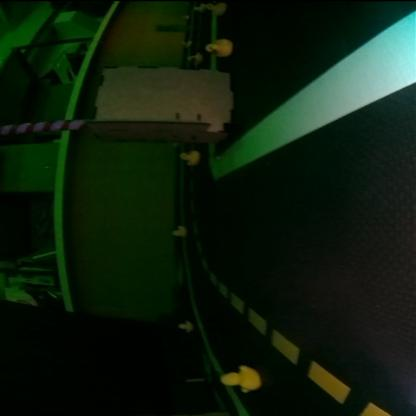Duckie: (221, 367, 257, 391), (204, 38, 233, 58), (207, 2, 226, 16), (180, 152, 198, 166), (187, 53, 203, 65), (178, 322, 192, 333), (172, 226, 184, 236), (195, 4, 205, 11), (184, 42, 192, 46), (182, 14, 190, 18)
